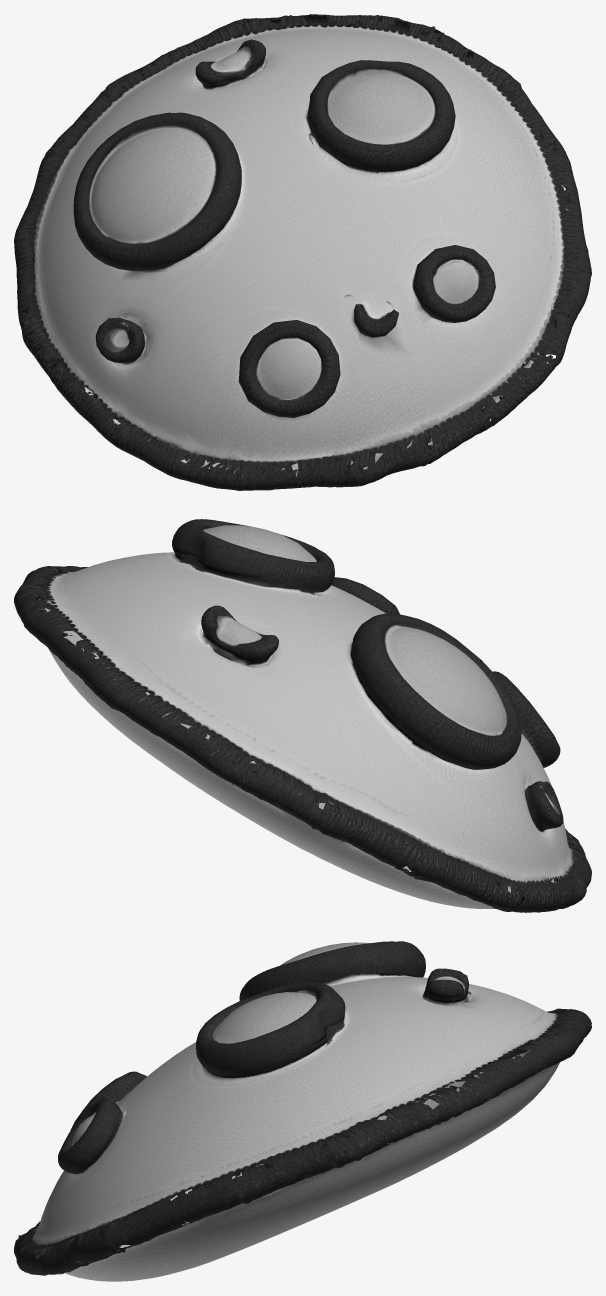
File: moon.glb
The picture shows the model from 3 angles, top to bottom: view 1: azimuth 30°, elevation 25°; view 2: azimuth 150°, elevation 25°; view 3: azimuth 270°, elevation 25°; orthographic projection. The views are drawn at different scales.
Parts seen in each view (by area): view 1: tripo_node_8c1c7692-00c4-4aee-962a-b272e9d83a7a; view 2: tripo_node_8c1c7692-00c4-4aee-962a-b272e9d83a7a; view 3: tripo_node_8c1c7692-00c4-4aee-962a-b272e9d83a7a.
Boxes of the visible parts, left/top/right/bottom form: tripo_node_8c1c7692-00c4-4aee-962a-b272e9d83a7a: left=14, top=14, right=591, bottom=490; tripo_node_8c1c7692-00c4-4aee-962a-b272e9d83a7a: left=14, top=519, right=591, bottom=912; tripo_node_8c1c7692-00c4-4aee-962a-b272e9d83a7a: left=14, top=941, right=591, bottom=1281.
Bounding box in the file's own units: 0.9759 × 0.6105 × 0.9687.
Materials: 1 (1 with a texture image).
